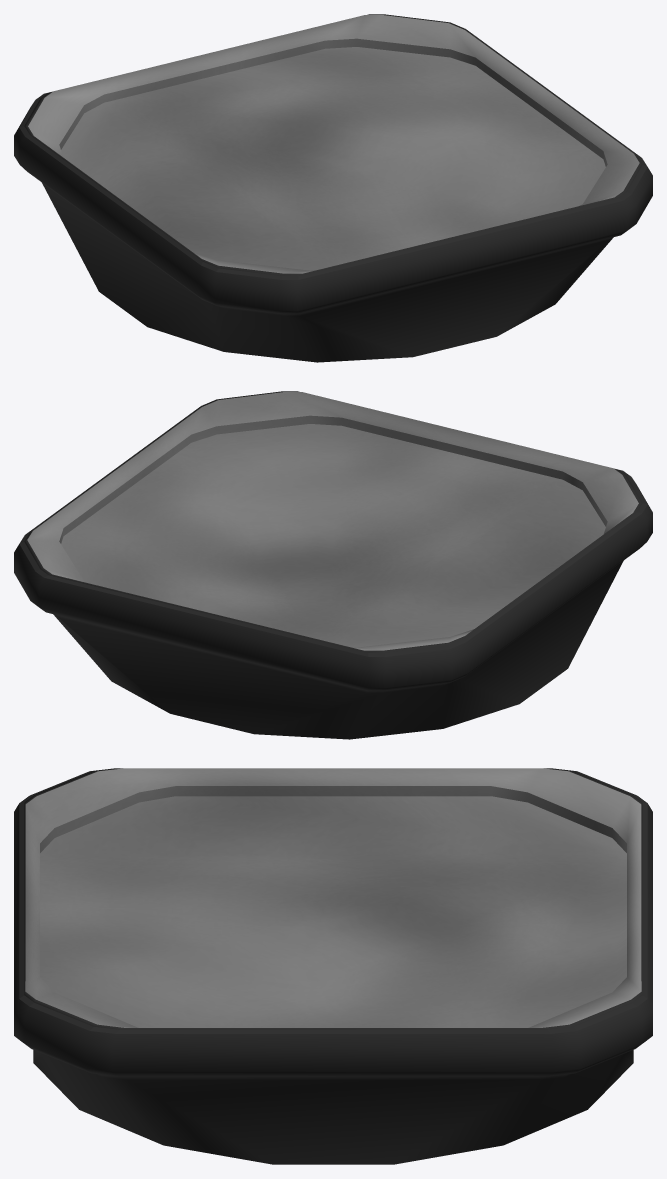
The model's file is heatshield-small.fbx.
3 renders of one model, top to bottom at view 1: azimuth 30°, elevation 25°; view 2: azimuth 150°, elevation 25°; view 3: azimuth 270°, elevation 25°, orthographic. The views are drawn at different scales.
Visible parts, largest first — view 1: square-heatshield-small, fairing; view 2: square-heatshield-small, fairing; view 3: square-heatshield-small, fairing.
Part boxes in pixels (x1=…): square-heatshield-small: x1=24, y1=14, x2=642, y2=275; fairing: x1=14, y1=14, x2=652, y2=362; square-heatshield-small: x1=24, y1=391, x2=642, y2=652; fairing: x1=14, y1=391, x2=652, y2=739; square-heatshield-small: x1=24, y1=768, x2=642, y2=1029; fairing: x1=14, y1=768, x2=652, y2=1164.
Size of what is drawn, in the model's own units: 1.29 by 0.3323 by 1.29.
1 material, 1 textured.
